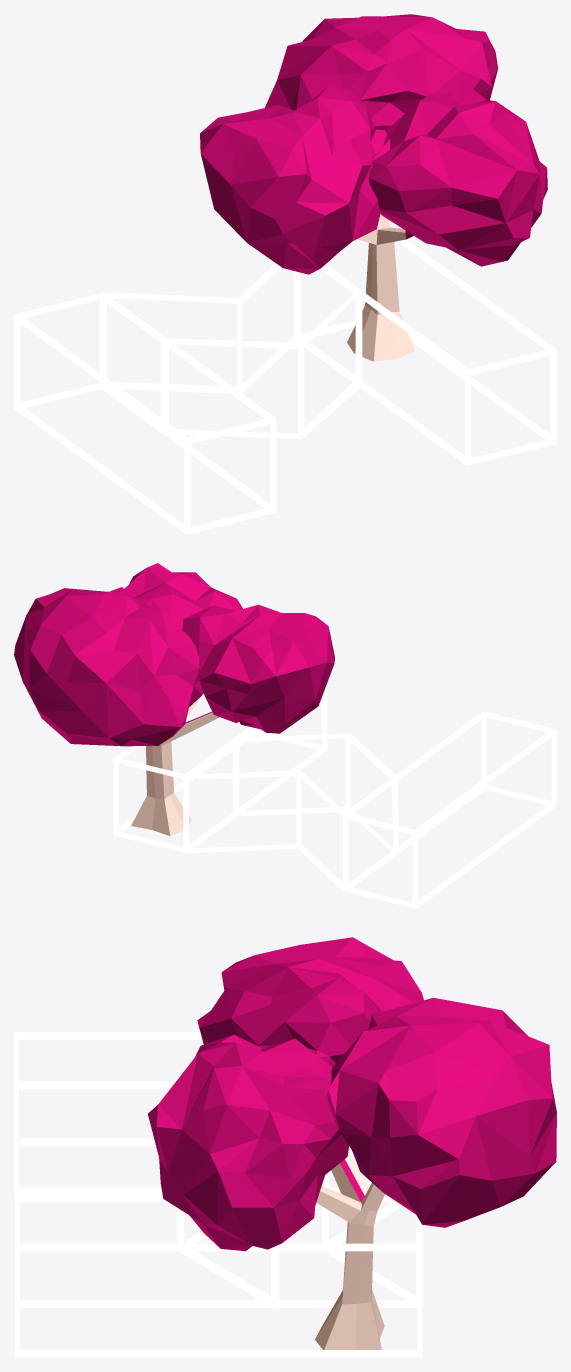
File: mtree.glb
The picture shows the model from 3 angles, top to bottom: view 1: azimuth 30°, elevation 25°; view 2: azimuth 150°, elevation 25°; view 3: azimuth 270°, elevation 25°; orthographic projection. The views are drawn at different scales.
Parts seen in each view (by area): view 1: Tree_average_lush, Cube, Tree_average_lush.001; view 2: Tree_average_lush, Cube, Tree_average_lush.001; view 3: Tree_average_lush, Cube, Tree_average_lush.001.
Part boxes in pixels (x1,y1,x2,y2): Tree_average_lush: [200, 14, 547, 274]; Cube: [14, 239, 556, 534]; Tree_average_lush.001: [347, 214, 414, 361]; Tree_average_lush: [14, 563, 334, 746]; Cube: [113, 683, 556, 908]; Tree_average_lush.001: [131, 693, 219, 836]; Tree_average_lush: [148, 937, 556, 1251]; Cube: [14, 1032, 422, 1357]; Tree_average_lush.001: [315, 1151, 384, 1349].
Bounding box in the file's own units: 10.65 × 6.13 × 8.82.
